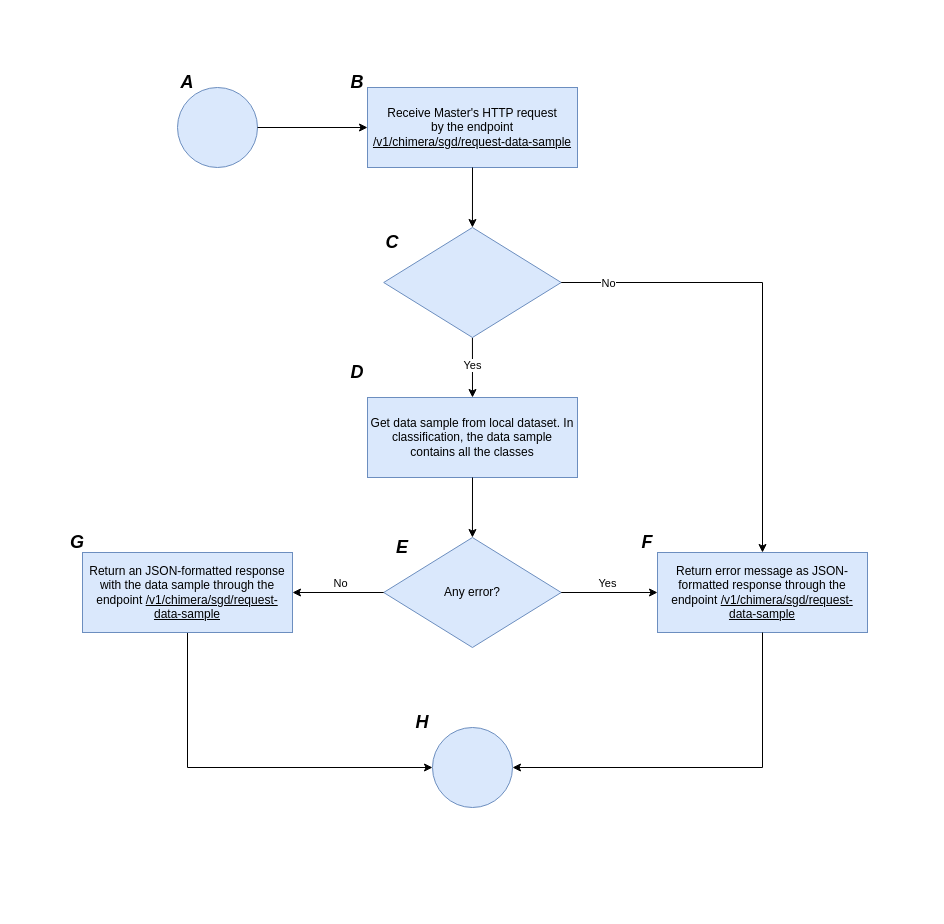
This 944x924 diagram has some shape labels left out. Here are the shapes that lost their labels. From the top down, the centre of each, then its label:
the point at 217,127: Beginning
the point at 472,282: Is Worker alive?
the point at 472,767: End
